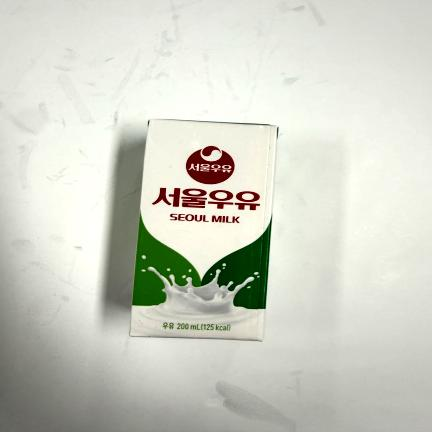milk_green: (130, 119, 279, 340)
